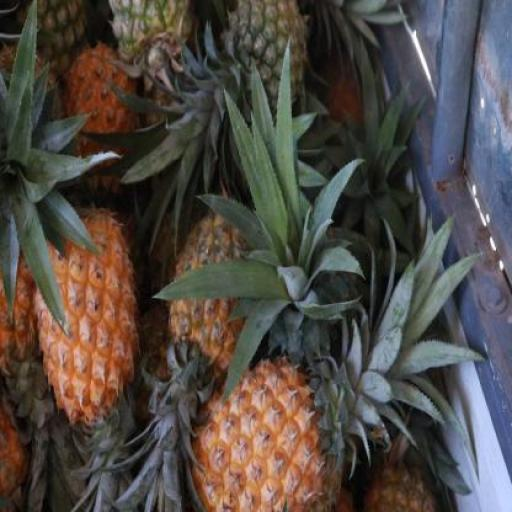Pineapple - v8 v1: (36, 202, 148, 429), (183, 358, 325, 512)
